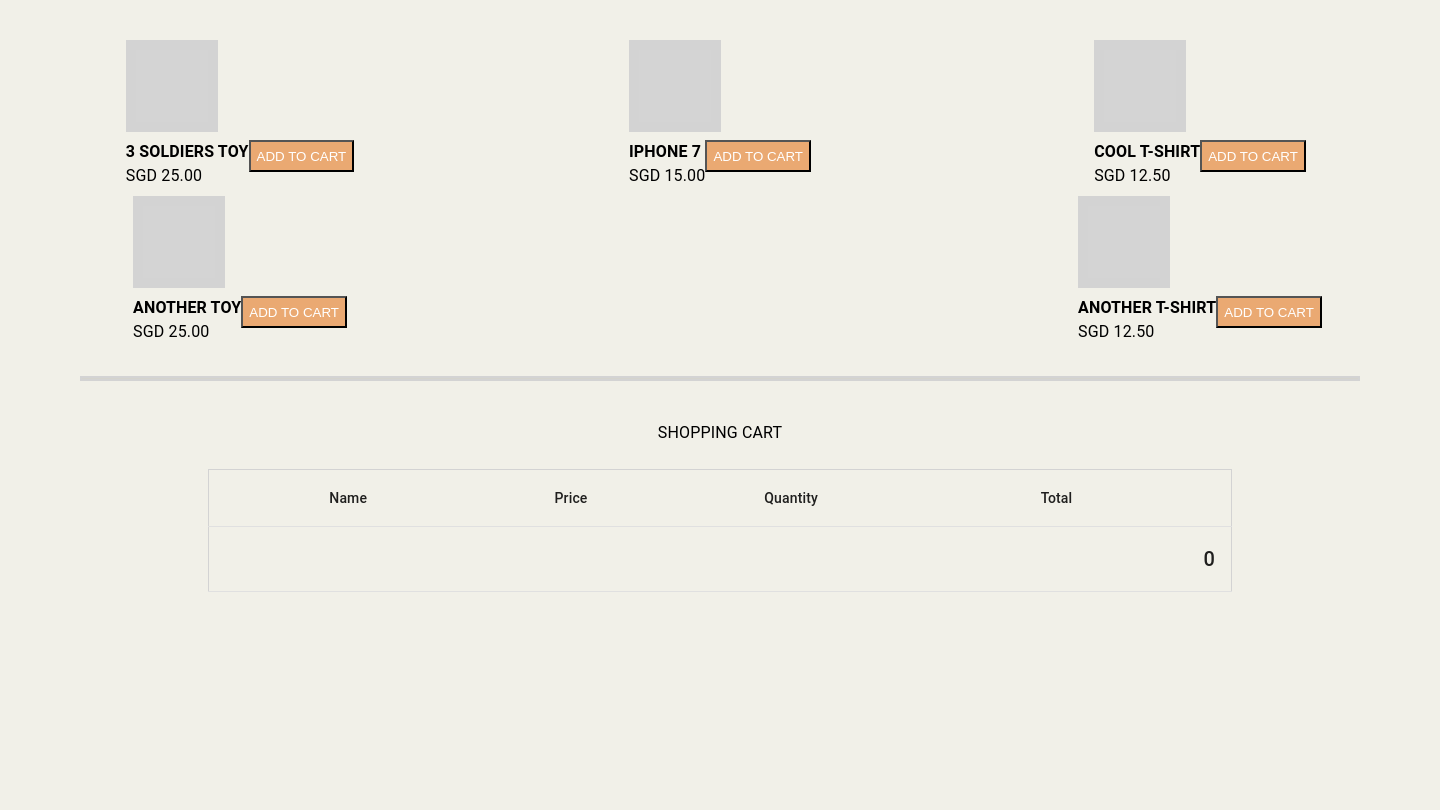
Main › Expect price to update when quantity change
Click the button "ADD TO CART" next to "3 SOLDIERS TOY": [301, 156] box [249,140,354,172]
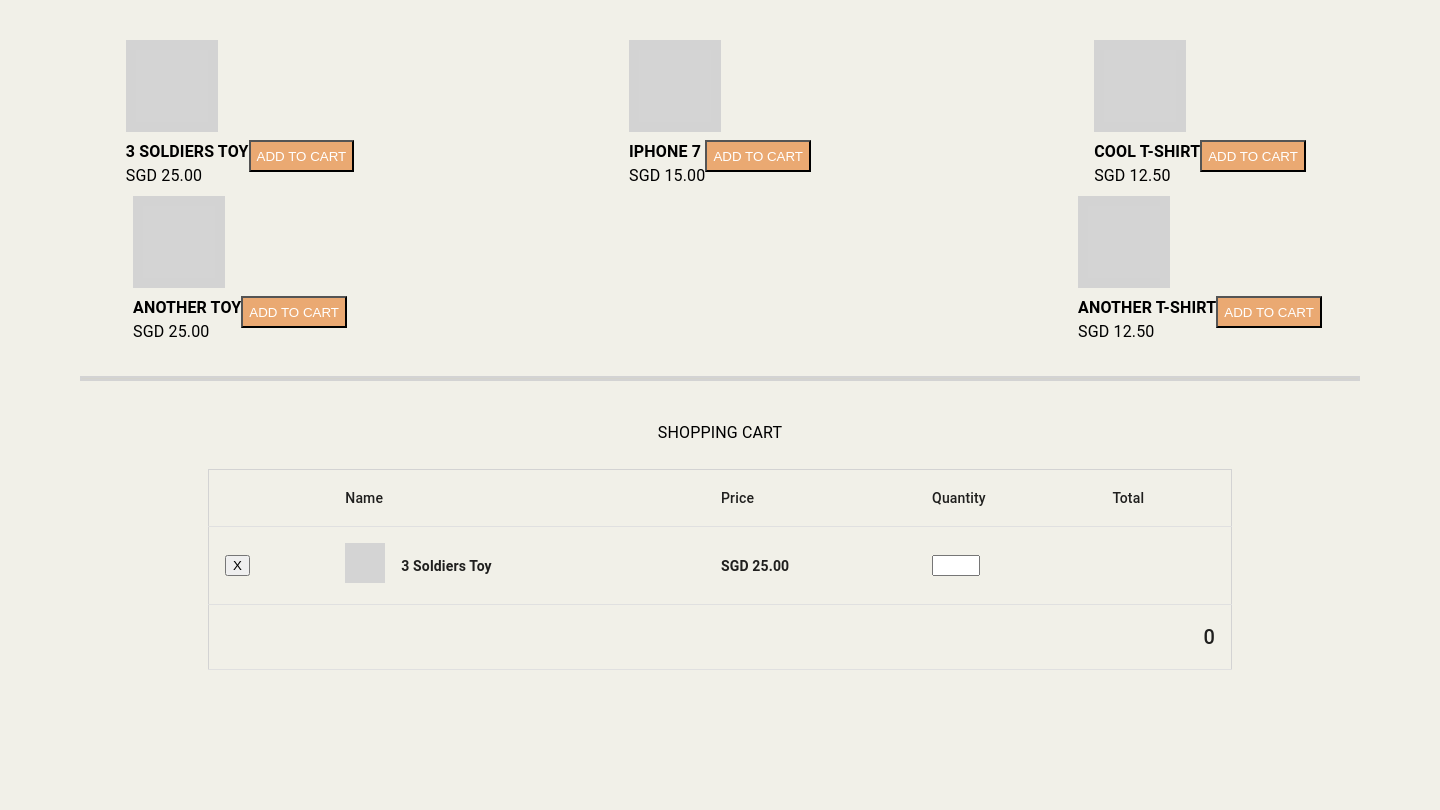
Expected: the field with test id "qty-0" is shown
In the field with test id "qty-0": [956, 566] box [932,555,980,576], type "2"
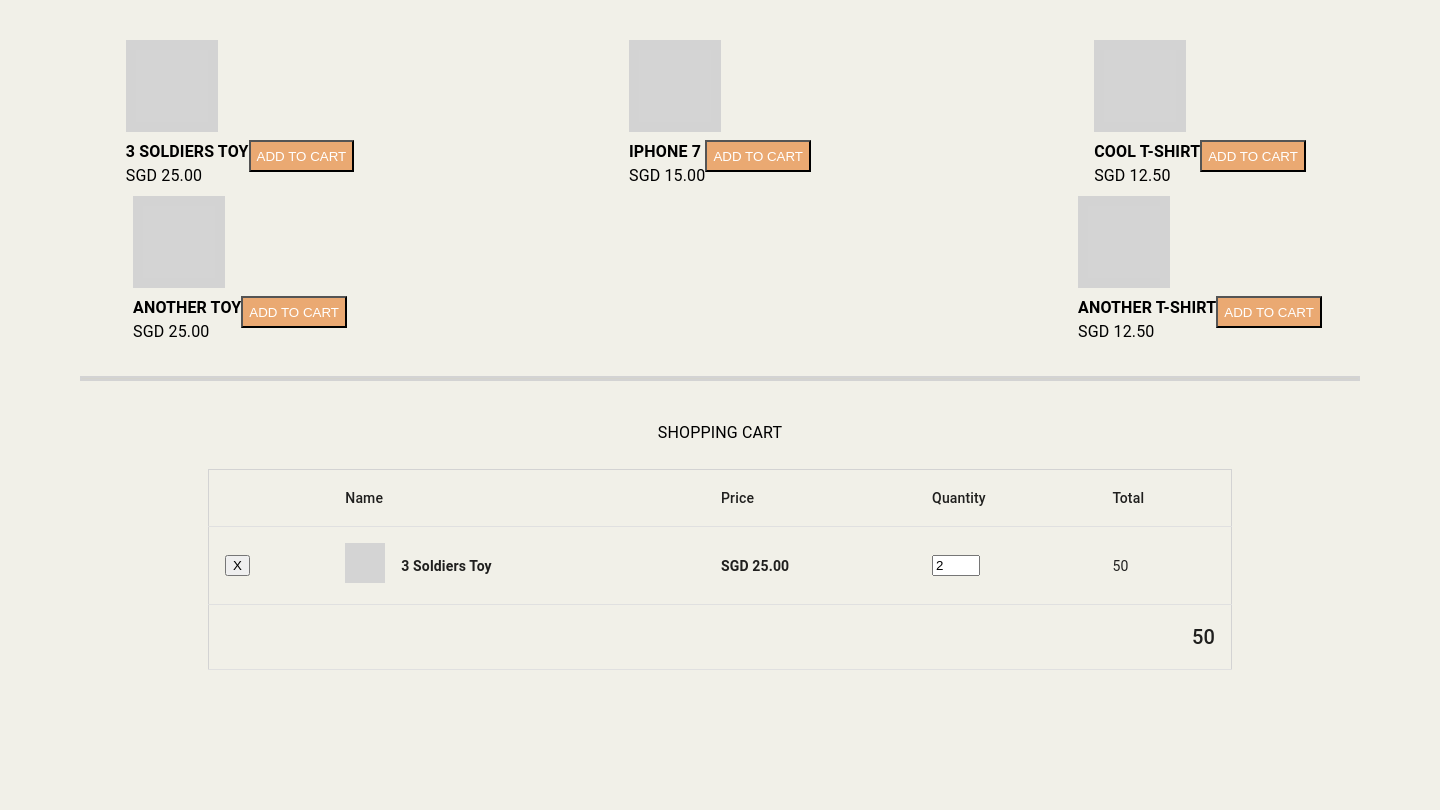
Expected: the cell with test id "price-0" reads "50", [1112,558,1128,574]
